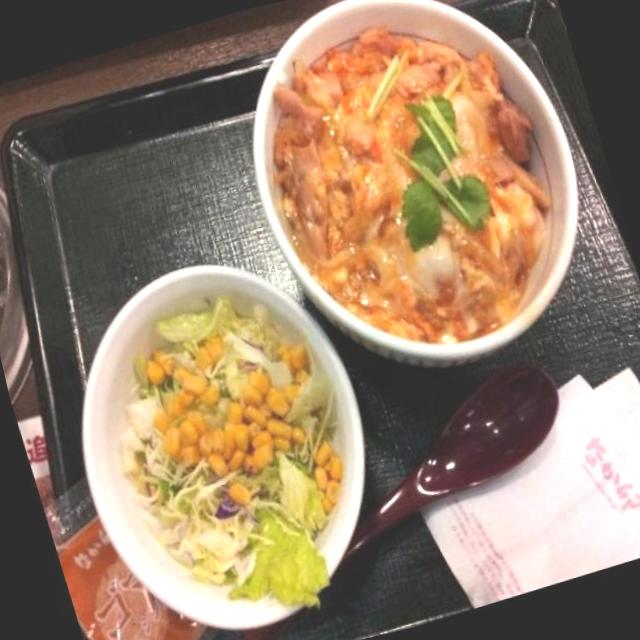Green Salad: (88, 268, 374, 598)
